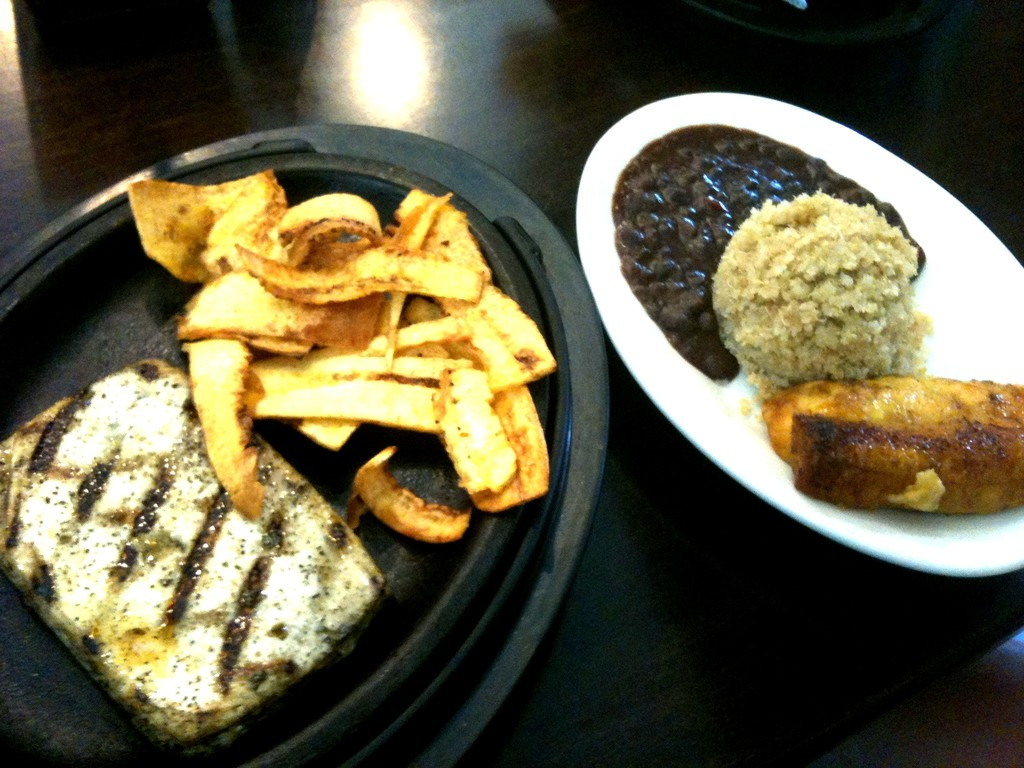French fries: (126, 195, 570, 532)
